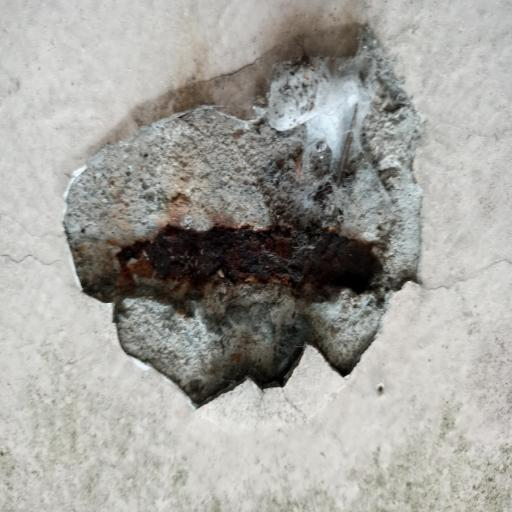exposed_rebar: (119, 226, 381, 293)
spalling: (64, 34, 420, 404)
